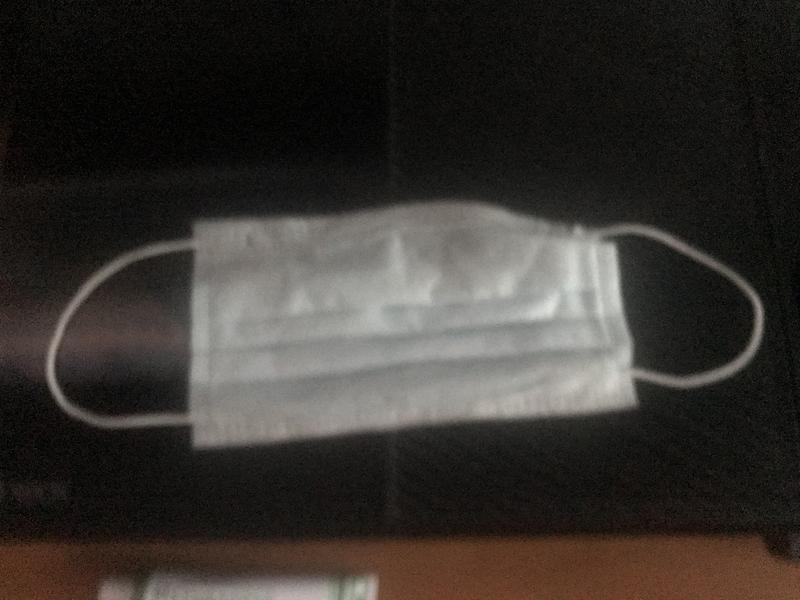medical_mask: (45, 200, 763, 447)
